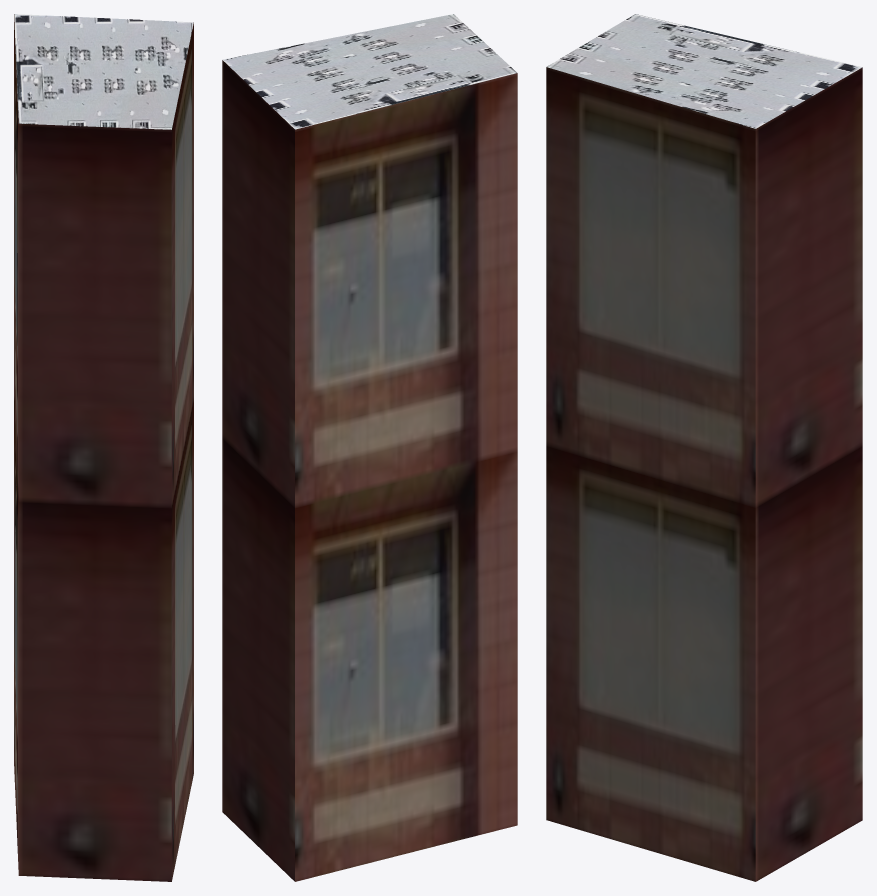
File: ResTex__1376.fbx
The picture shows the model from 3 angles, left to right: view 1: azimuth 30°, elevation 25°; view 2: azimuth 150°, elevation 25°; view 3: azimuth 270°, elevation 25°; orthographic projection.
Visible parts, largest first — view 1: CityEngineMaterial_13_m, CityEngineMaterial_m; view 2: CityEngineMaterial_13_m, CityEngineMaterial_m; view 3: CityEngineMaterial_13_m, CityEngineMaterial_m.
Boxes of the visible parts, x1=… form: CityEngineMaterial_13_m: x1=14, y1=14, x2=193, y2=881; CityEngineMaterial_m: x1=14, y1=14, x2=193, y2=129; CityEngineMaterial_13_m: x1=222, y1=60, x2=517, y2=881; CityEngineMaterial_m: x1=222, y1=14, x2=516, y2=129; CityEngineMaterial_13_m: x1=546, y1=67, x2=862, y2=881; CityEngineMaterial_m: x1=546, y1=14, x2=862, y2=128.
Size of the model in its own units: 1.96 by 6 by 2.29.
2 materials, 2 textured.
